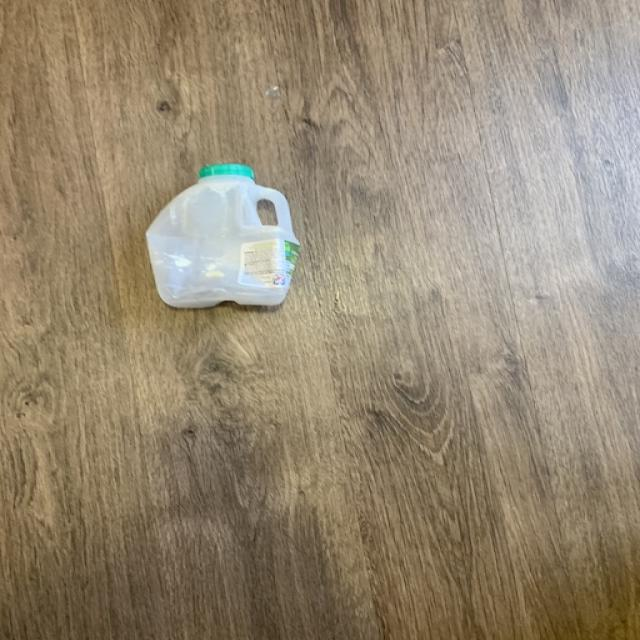litter: (139, 156, 305, 320)
